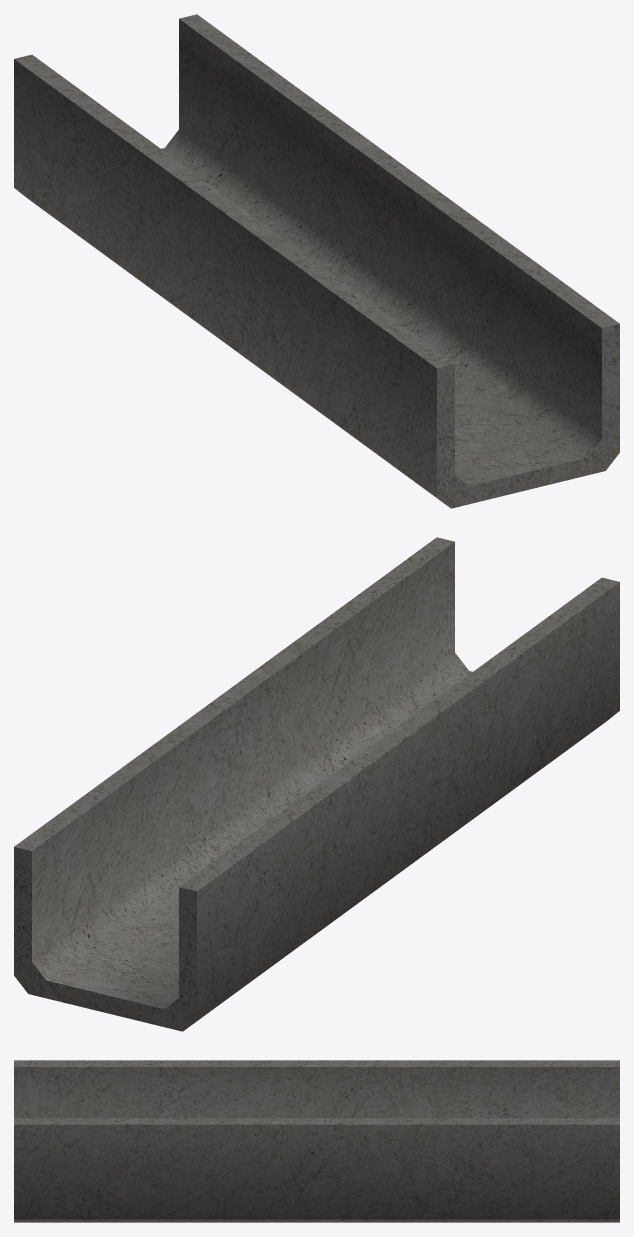
The model's file is concrete_pipe_channel.dae.
The picture shows the model from 3 angles, top to bottom: view 1: azimuth 30°, elevation 25°; view 2: azimuth 150°, elevation 25°; view 3: azimuth 270°, elevation 25°; orthographic projection. The views are drawn at different scales.
Parts seen in each view (by area): view 1: U; view 2: U; view 3: U.
Part boxes in pixels (x1,y1,x2,y2): U: (14, 14, 619, 508); U: (14, 537, 619, 1031); U: (14, 1060, 619, 1222).
Bounding box in the file's own units: 0.4453 × 1.78 × 0.334.
1 material, 1 textured.
